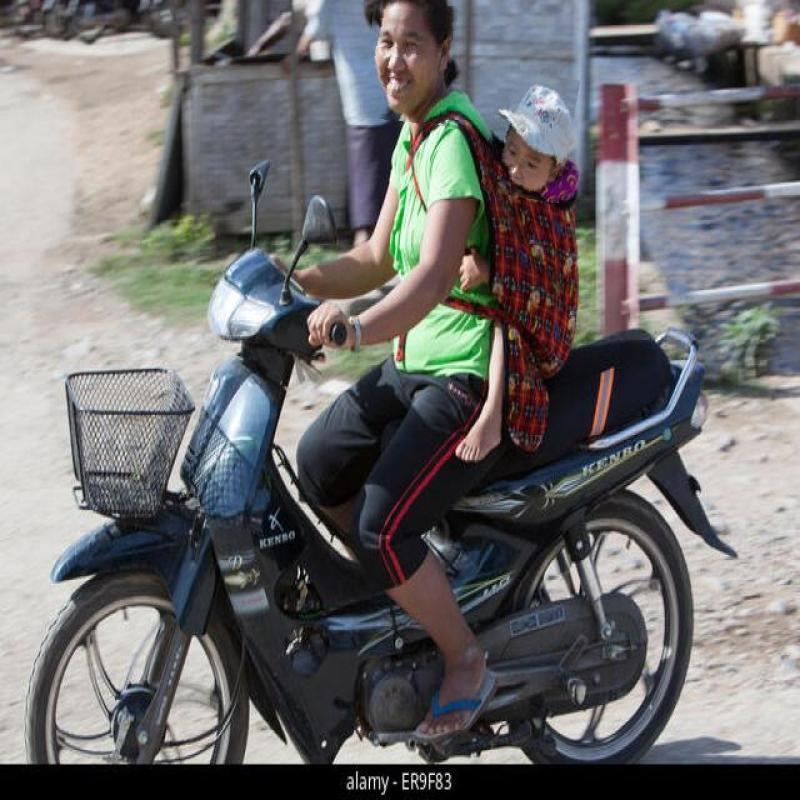nohelmet: (485, 70, 575, 200), (366, 0, 456, 124)
